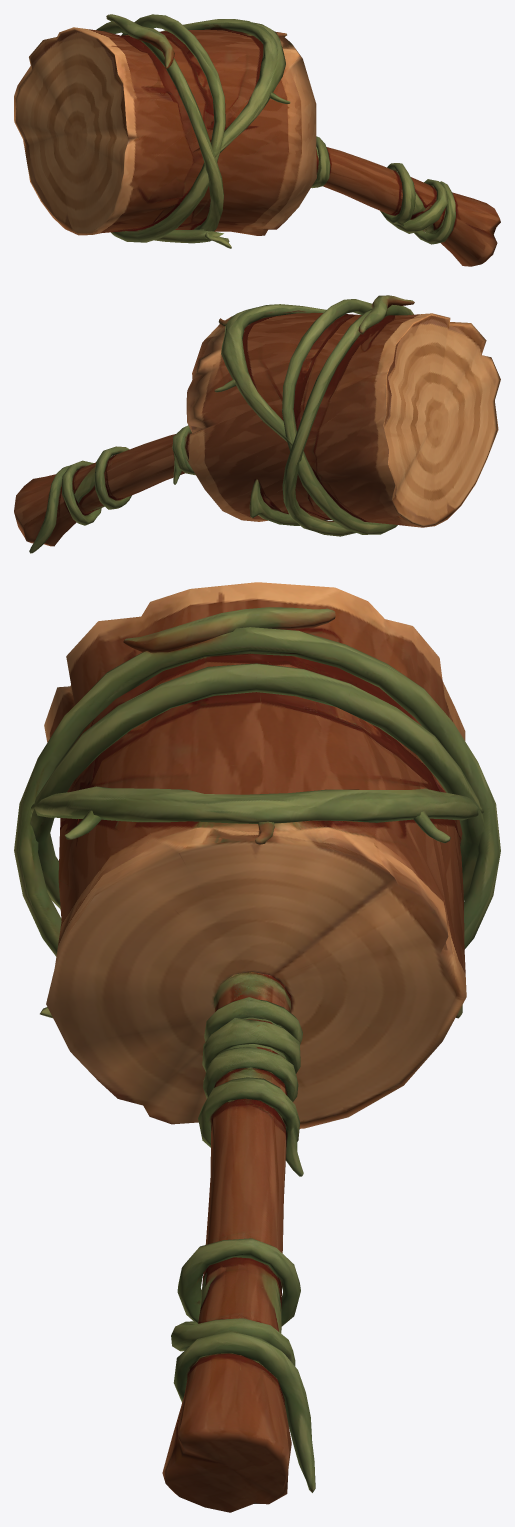
File: Meshy_AI_Wooden_War_Drum_20261026_texture.fbx
The picture shows the model from 3 angles, top to bottom: view 1: azimuth 30°, elevation 25°; view 2: azimuth 150°, elevation 25°; view 3: azimuth 270°, elevation 25°; orthographic projection. The views are drawn at different scales.
Visible parts, largest first — view 1: Mesh_0; view 2: Mesh_0; view 3: Mesh_0.
Boxes of the visible parts, bbox=[...] form: Mesh_0: bbox=[14, 14, 500, 266]; Mesh_0: bbox=[14, 295, 500, 553]; Mesh_0: bbox=[14, 582, 500, 1512].
Bounding box in the file's own units: 100 × 72.16 × 52.99.
Materials: 1 (1 with a texture image).
